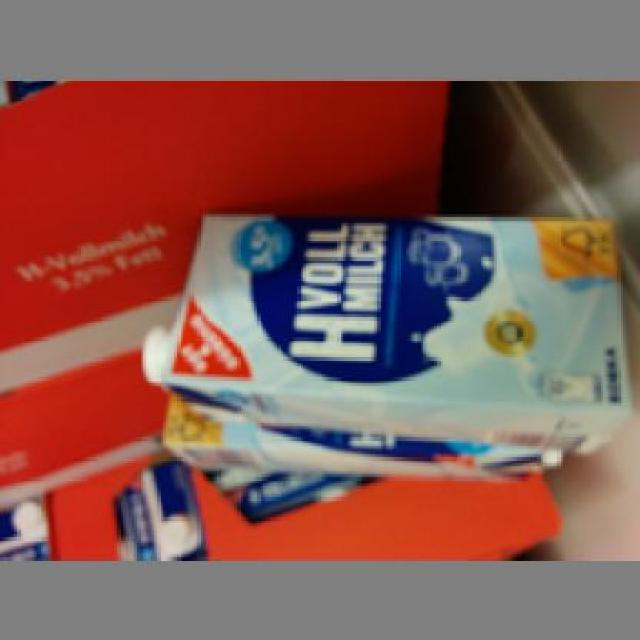Milk: (122, 208, 638, 466)
